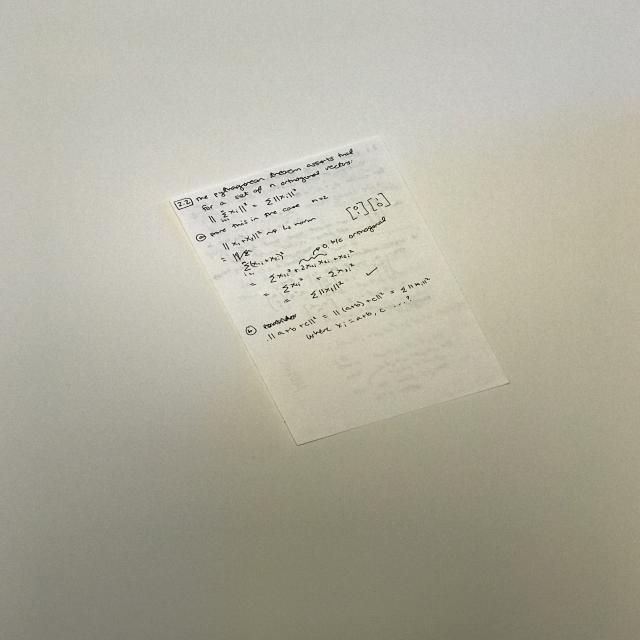Paper: (170, 130, 507, 444)
